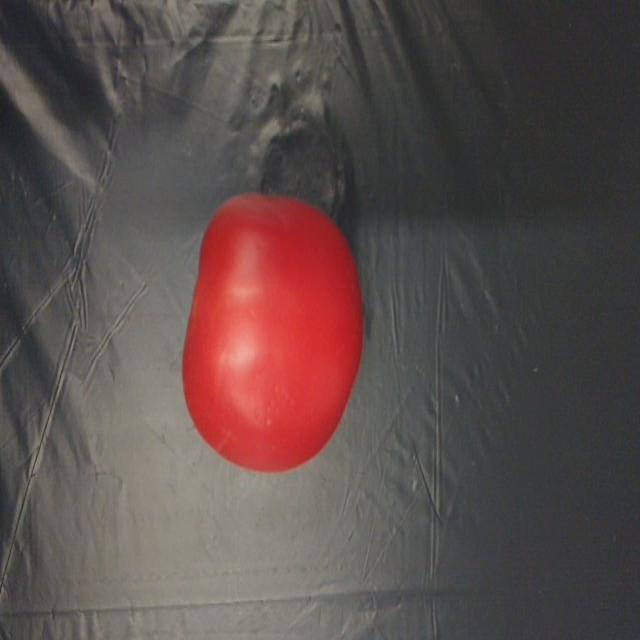kirmizi: (173, 183, 377, 484)
